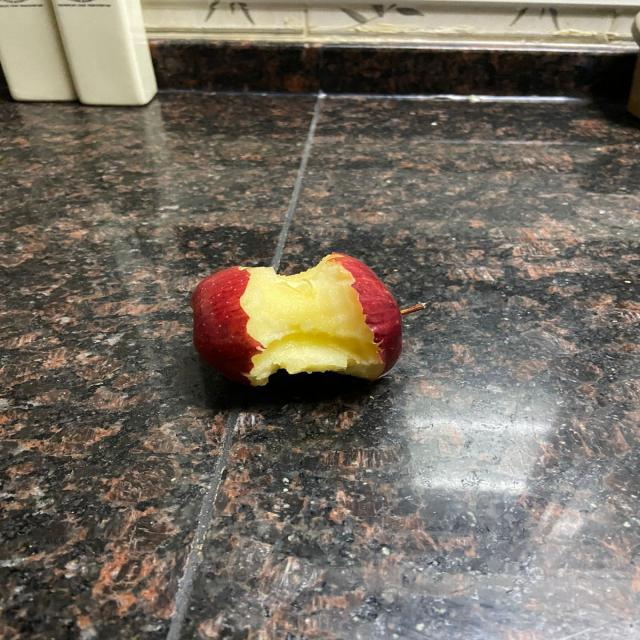apple: (185, 248, 435, 388)
